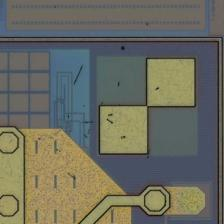PO CONTAMINATION: (54, 4, 162, 166)
